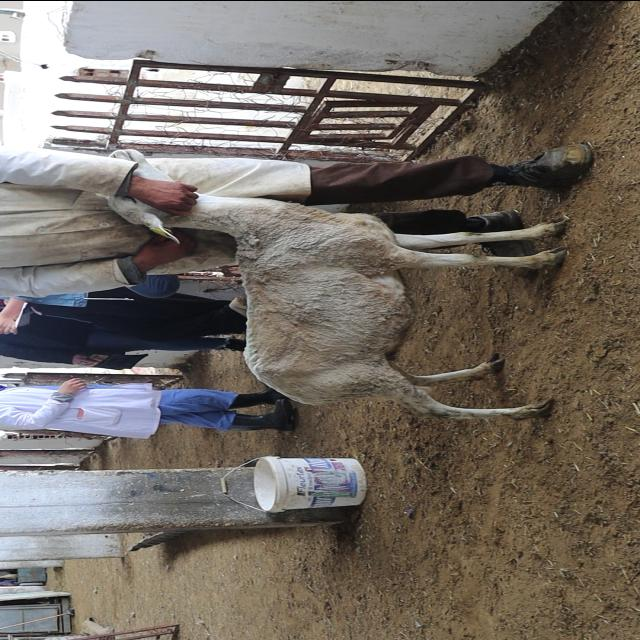Score_1: (108, 193, 565, 419)
